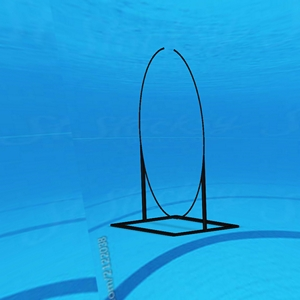circle: (108, 47, 242, 240)
